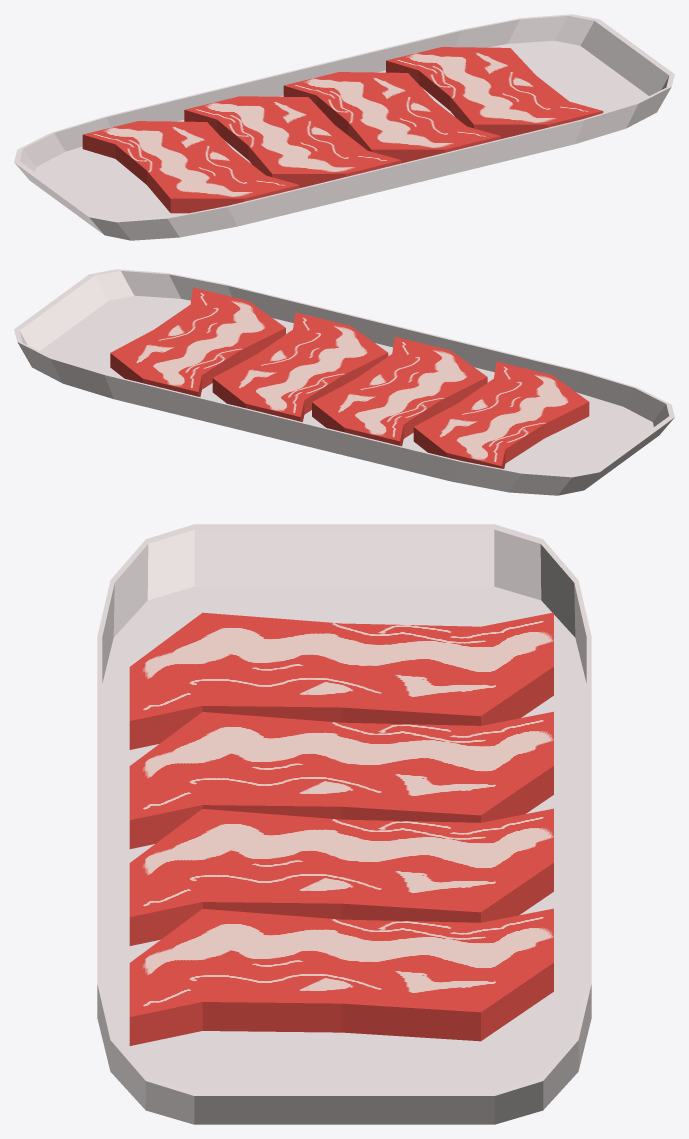
The model's file is Collectible Item.fbx_Beef_Steak.fbx.
3 views of the same model, one above another, from view 1: azimuth 30°, elevation 25°; view 2: azimuth 150°, elevation 25°; view 3: azimuth 270°, elevation 25° (orthographic). The views are drawn at different scales.
Parts seen in each view (by area): view 1: Beef Steak Tray; view 2: Beef Steak Tray; view 3: Beef Steak Tray.
Boxes of the visible parts, x1,y1,x2,y2 form: Beef Steak Tray: (14, 14, 674, 240); Beef Steak Tray: (14, 269, 674, 495); Beef Steak Tray: (97, 524, 591, 1124).
Bounding box in the file's own units: 5.48 × 0.1961 × 2.
Materials: 2 (2 with a texture image).
